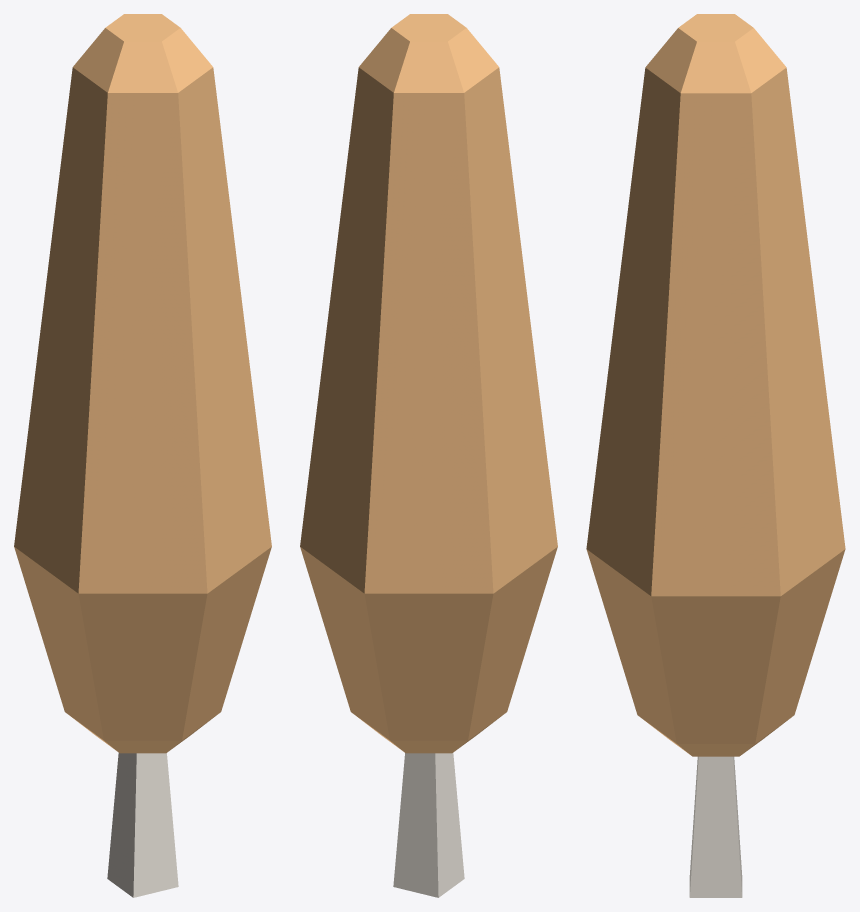
The model's file is tree_tall_fall.gltf.
3 renders of one model, left to right at view 1: azimuth 30°, elevation 25°; view 2: azimuth 150°, elevation 25°; view 3: azimuth 270°, elevation 25°, orthographic.
Visible parts, largest first — view 1: tree_tall_fall; view 2: tree_tall_fall; view 3: tree_tall_fall.
Part boxes in pixels (x1,y1,x2,y2): tree_tall_fall: (14, 14, 271, 897); tree_tall_fall: (300, 14, 557, 897); tree_tall_fall: (586, 14, 845, 897).
Bounding box in the file's own units: 0.3996 × 1.69 × 0.4614.
